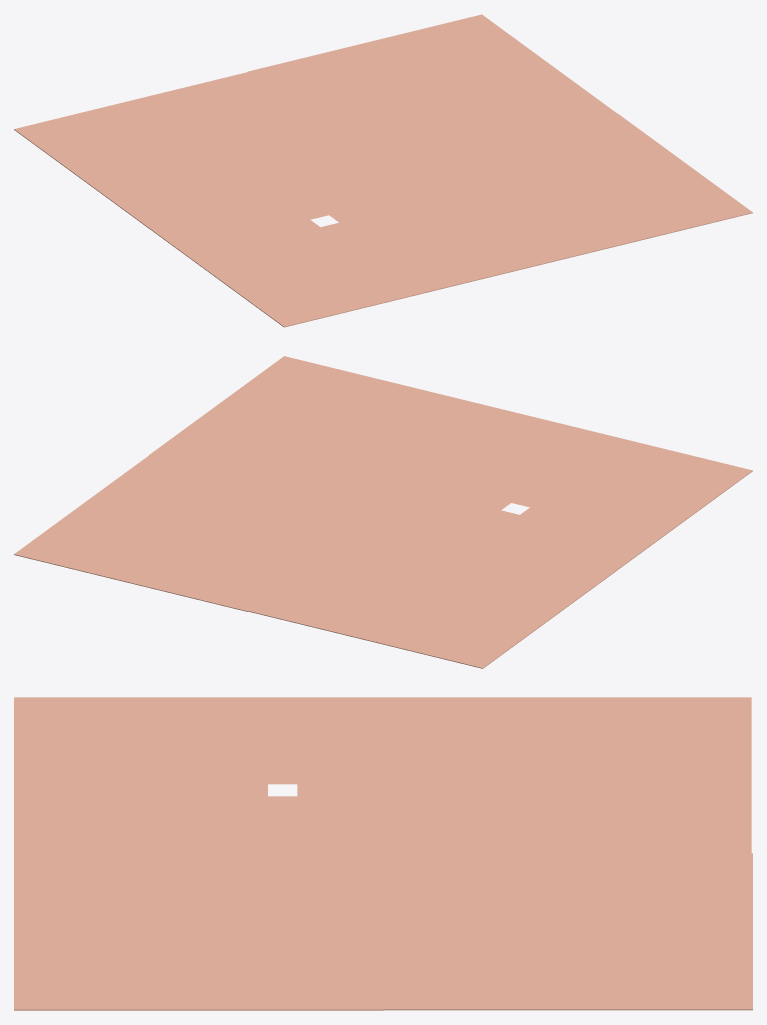
The model's file is ground.glb.
3 renders of one model, top to bottom at view 1: azimuth 30°, elevation 25°; view 2: azimuth 150°, elevation 25°; view 3: azimuth 270°, elevation 25°, orthographic. The views are drawn at different scales.
Parts seen in each view (by area): view 1: Cube.003, Cube.002, Cube, Cube.001; view 2: Cube, Cube.001, Cube.003, Cube.002; view 3: Cube.003, Cube.001, Cube, Cube.002.
Boxes of the visible parts, x1,y1,x2,y2 form: Cube.003: (383, 113, 752, 269); Cube.002: (149, 170, 518, 327); Cube: (14, 72, 382, 228); Cube.001: (248, 14, 616, 170); Cube: (249, 512, 618, 668); Cube.001: (14, 455, 382, 611); Cube.003: (149, 356, 518, 511); Cube.002: (384, 413, 752, 569); Cube.003: (14, 853, 383, 1010); Cube.001: (383, 853, 752, 1010); Cube: (382, 697, 751, 853); Cube.002: (14, 697, 383, 853).
Size of the model in its own units: 265 by 0.3769 by 265.
